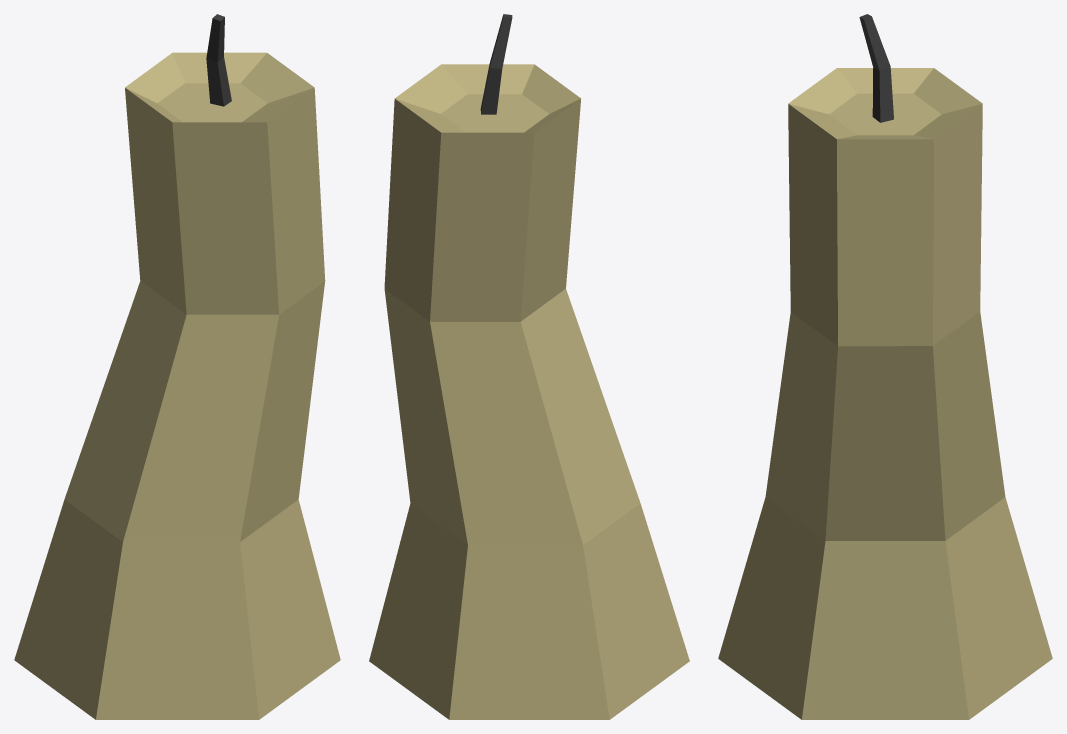
File: candle_4.fbx
The picture shows the model from 3 angles, left to right: view 1: azimuth 30°, elevation 25°; view 2: azimuth 150°, elevation 25°; view 3: azimuth 270°, elevation 25°; orthographic projection. The views are drawn at different scales.
Parts seen in each view (by area): view 1: candle_4; view 2: candle_4; view 3: candle_4.
Part boxes in pixels (x1,y1,x2,y2): candle_4: (14, 14, 340, 719); candle_4: (369, 14, 689, 719); candle_4: (718, 14, 1052, 719).
Size of the model in its own units: 13.6 by 33.8 by 15.56.
